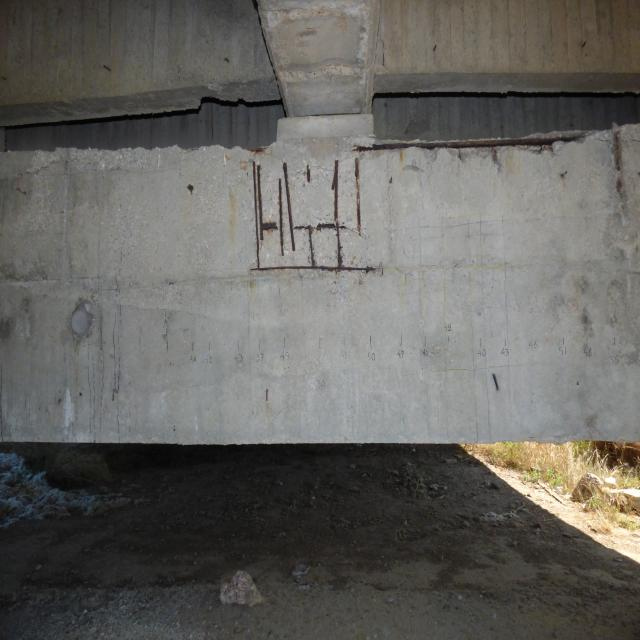corrosion: (244, 149, 380, 291), (348, 132, 586, 165), (609, 131, 630, 207), (224, 185, 241, 248), (490, 366, 502, 398), (186, 181, 199, 200), (264, 385, 272, 410), (557, 169, 570, 181), (381, 43, 387, 67), (102, 63, 113, 74), (580, 40, 588, 51), (111, 388, 117, 402), (389, 175, 393, 186), (224, 57, 230, 63), (433, 44, 437, 52)
